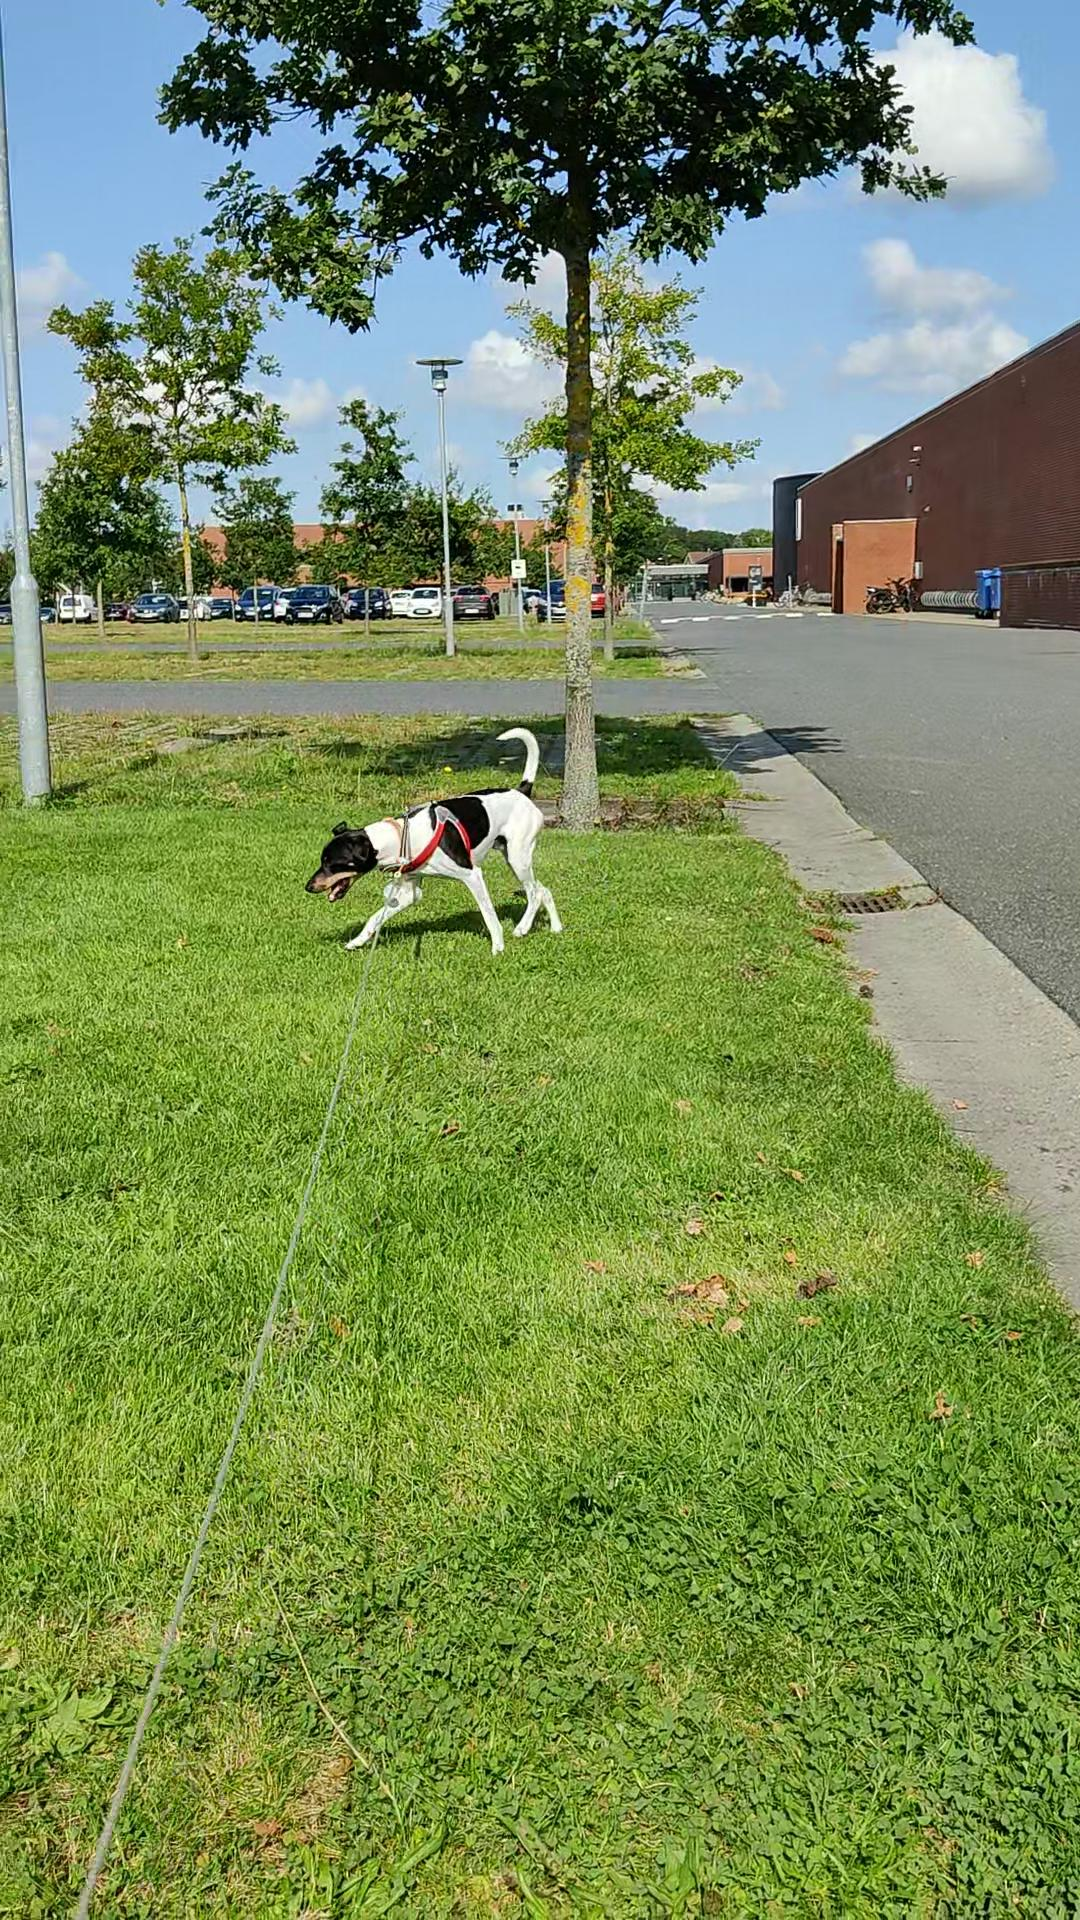Dog: (299, 724, 568, 960)
